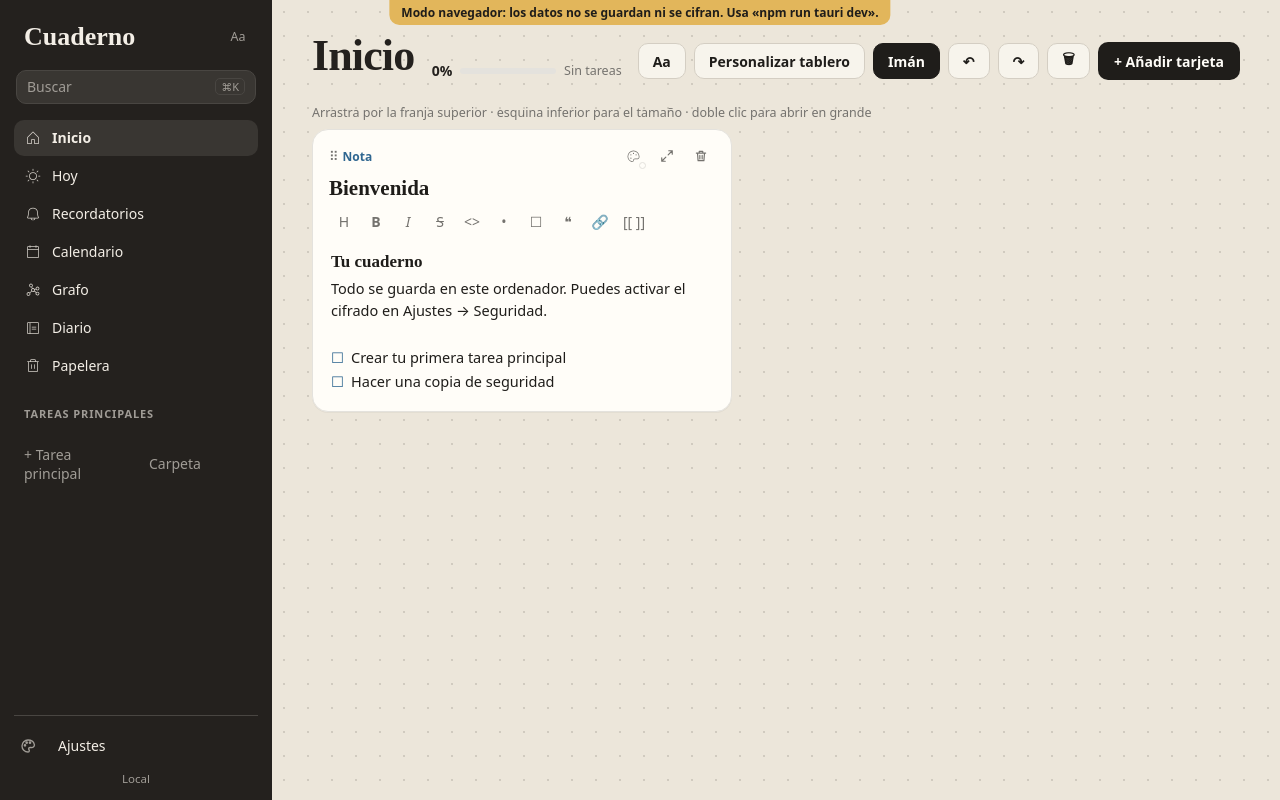
Test: idiomas: cambio en caliente desde Ajustes › cambia la interfaz a inglés y a francés, y recuerda el idioma
Expected: the heading "Inicio" is shown, [312,32,416,80]
Click the button "Ajustes": (153, 746) [48,728,258,763]
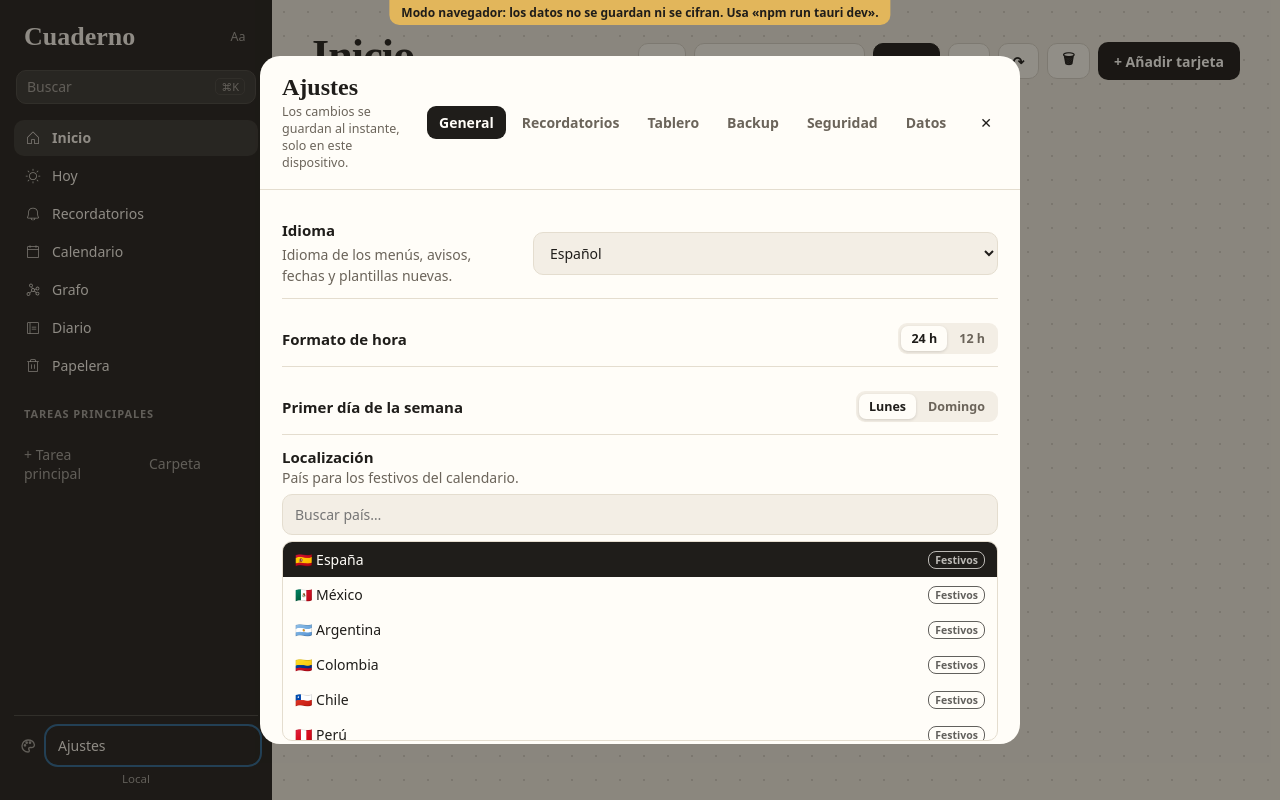
Select "English" in the dropdown named "Idioma": (766, 253) [533,232,998,274]
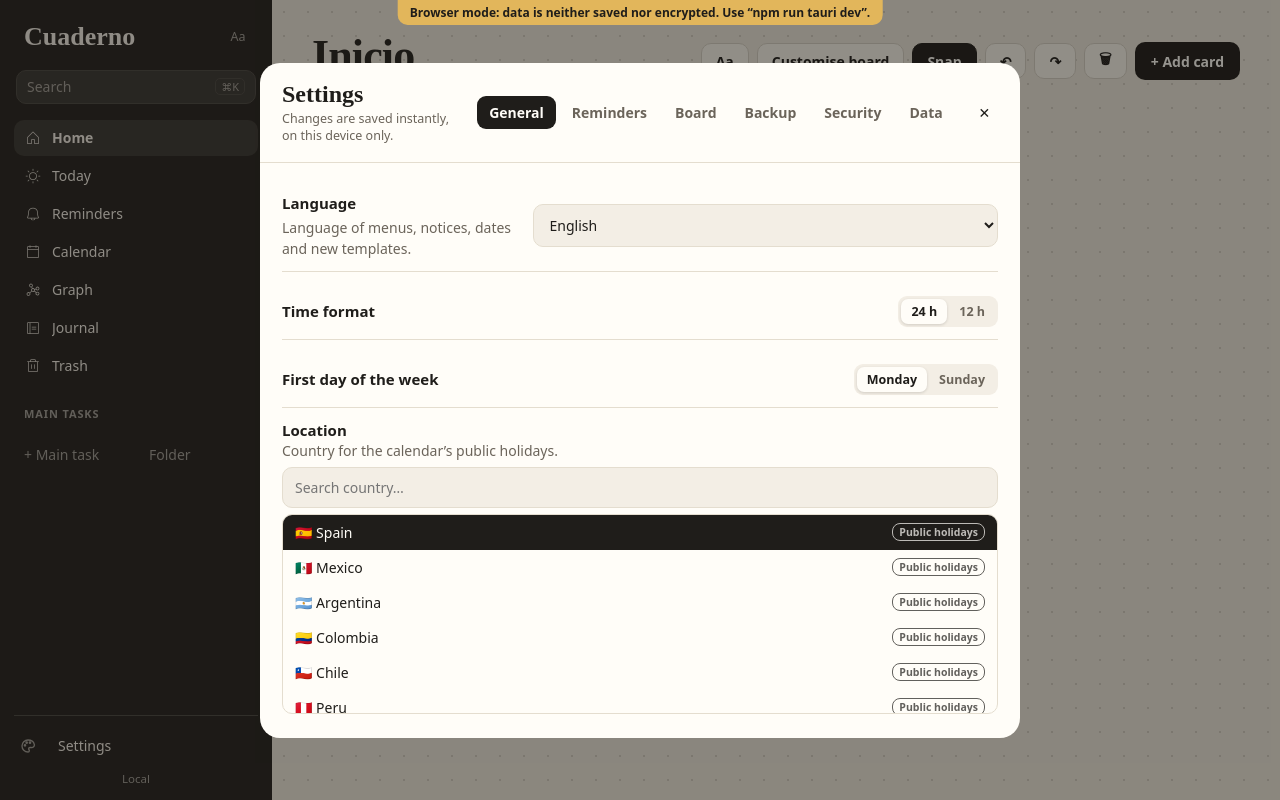
Expected: the dropdown named "Language" is shown
Select "Français" in the dropdown named "Language": (765, 226) [532,204,998,247]
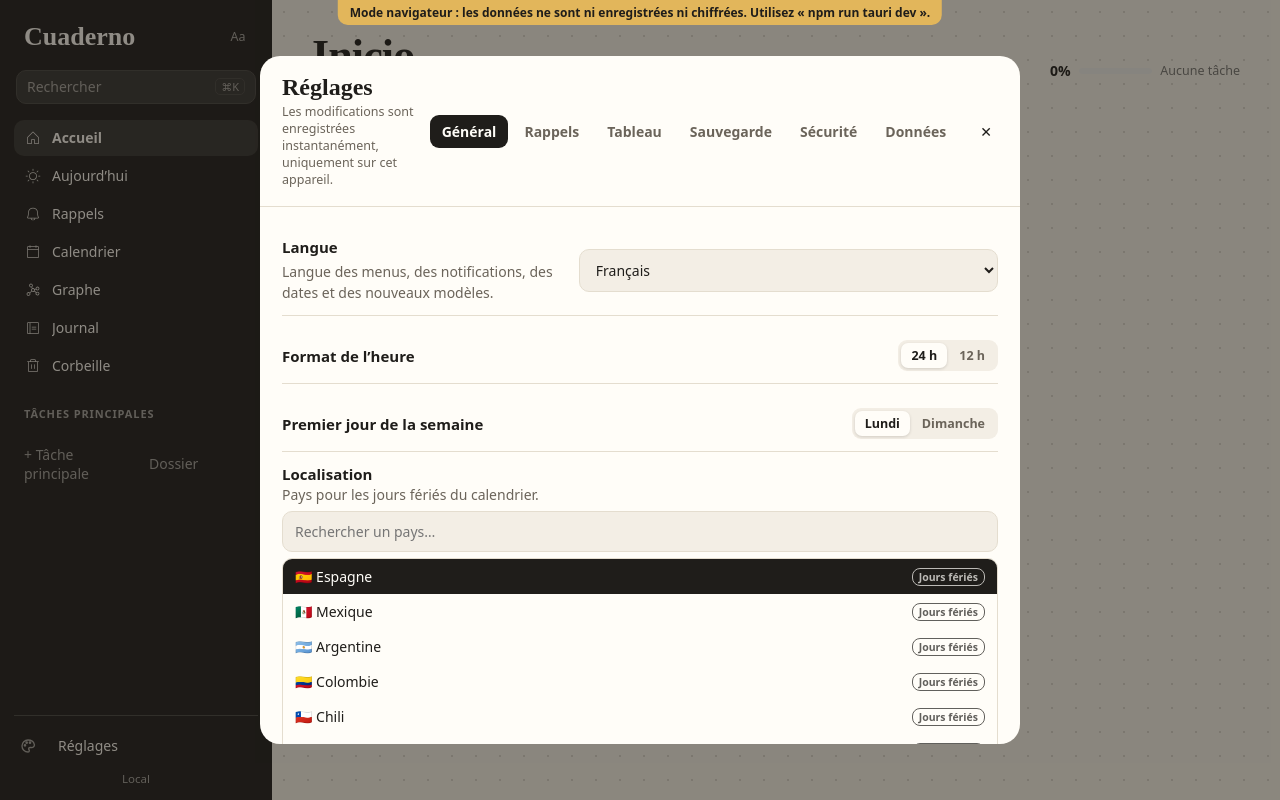
Expected: the dropdown named "Langue" is shown, [579,248,998,292]
